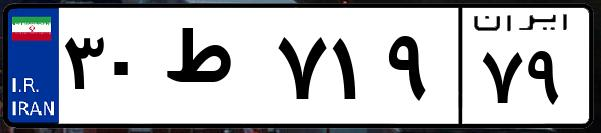0: (110, 28, 158, 98)
1: (330, 28, 385, 110)
3: (57, 26, 110, 100)
7: (270, 28, 330, 110), (475, 38, 525, 113)
9: (385, 28, 445, 110), (525, 38, 570, 115)
ط: (158, 20, 270, 120)
